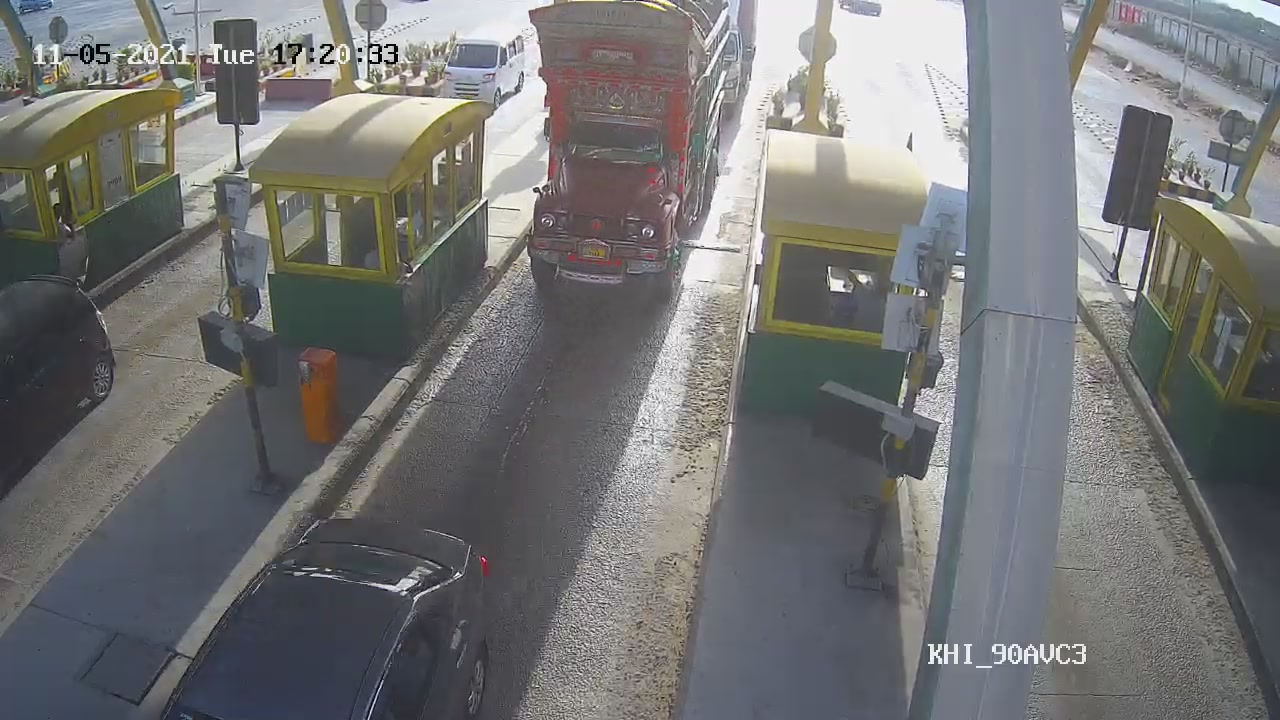F5: (530, 1, 734, 295)
